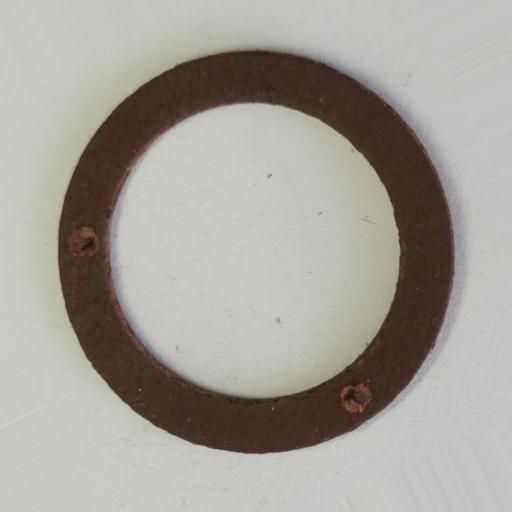defect: (67, 225, 100, 258), (339, 383, 372, 413)
